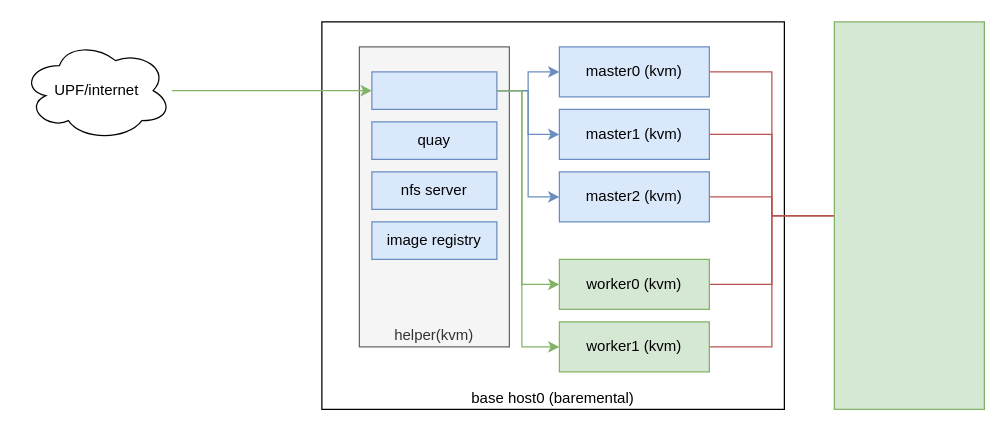
This 1006x431 diagram has some shape labels left out. Each missing label, with the centre of its shape:
"haproxy" belongs at point (434, 90).
"worker3(baremental)" belongs at point (908, 215).
